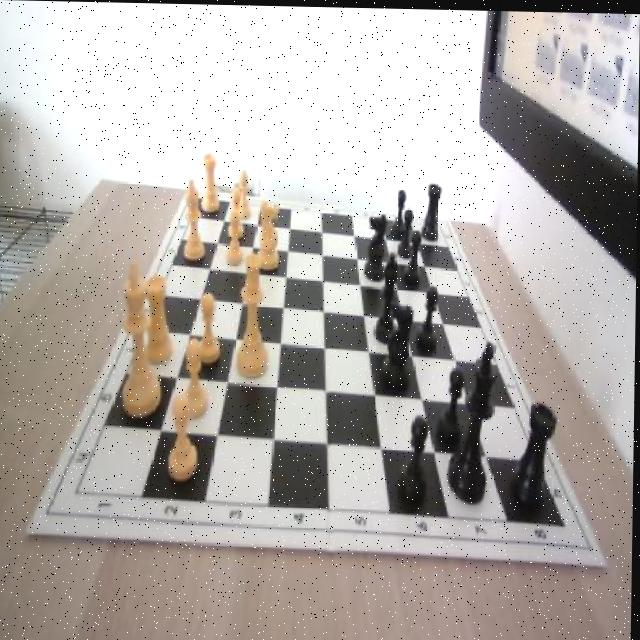bishop: (374, 250, 398, 347)
black-bishop: (448, 339, 497, 504)
black-king: (382, 302, 414, 394), (365, 209, 388, 280)
black-knight: (400, 416, 431, 504), (438, 361, 465, 447), (416, 281, 440, 352), (404, 230, 422, 286), (391, 189, 408, 240), (399, 207, 415, 256)
black-queen: (513, 400, 557, 514), (422, 181, 441, 239)
black-rook: (185, 179, 207, 257)
white-bishop: (116, 262, 164, 417)
white-king: (258, 200, 283, 270)
white-knight: (167, 394, 201, 484), (185, 339, 215, 422), (196, 290, 223, 362), (226, 209, 246, 265), (228, 186, 244, 239), (238, 167, 251, 217)
white-pawn: (237, 250, 271, 378)
white-queen: (143, 275, 175, 364), (202, 153, 222, 213)
